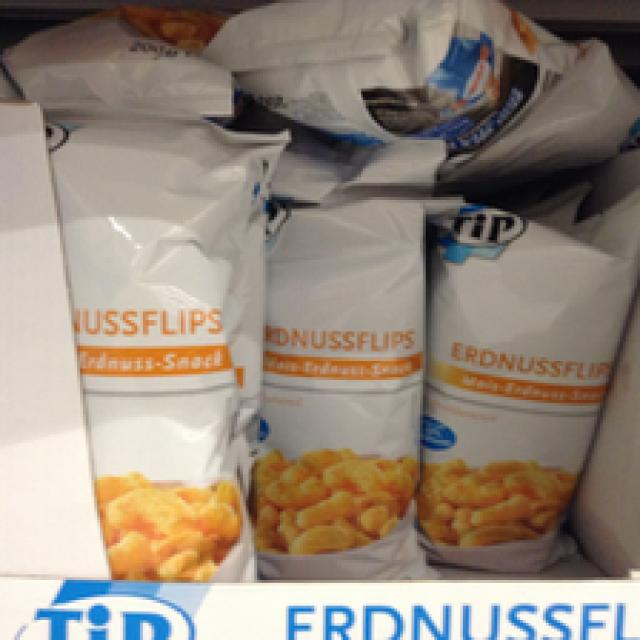groceries: (17, 114, 266, 580), (423, 192, 617, 568), (240, 186, 429, 571)
